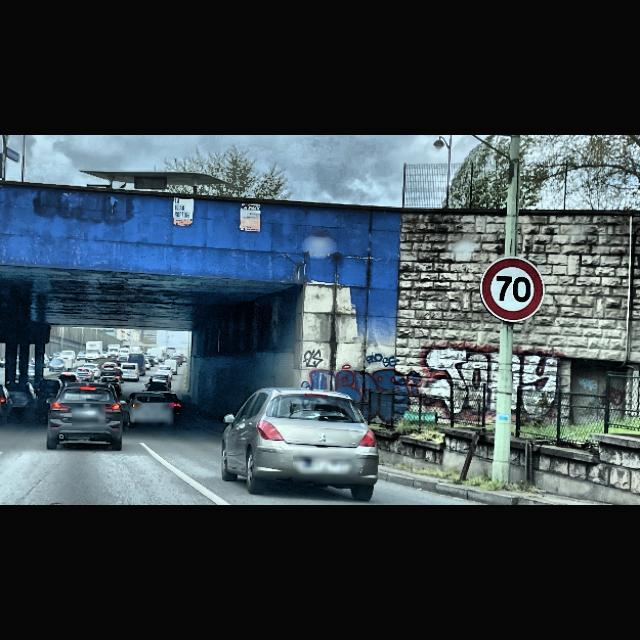speed_70: (479, 255, 546, 322)
